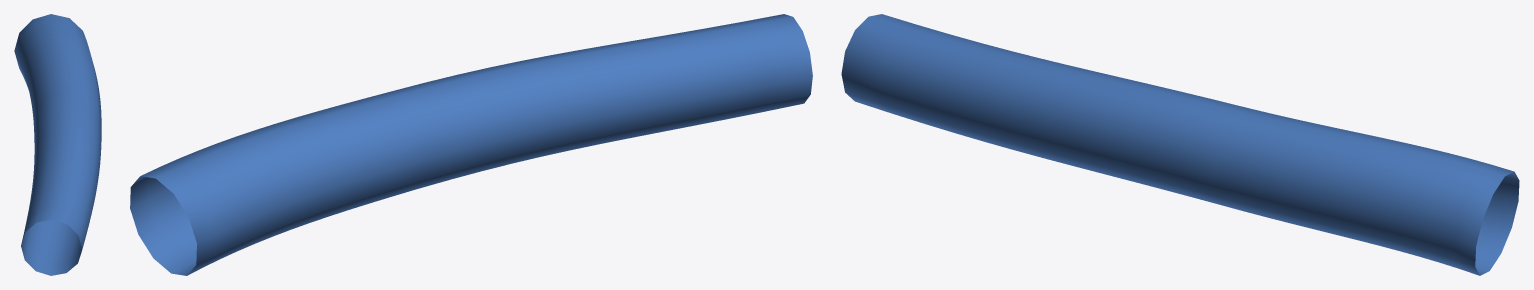
3 views of the same model, side by side, from view 1: azimuth 30°, elevation 25°; view 2: azimuth 150°, elevation 25°; view 3: azimuth 270°, elevation 25° (orthographic). The views are drawn at different scales.
Parts seen in each view (by area): view 1: 右侧下颌后静脉; view 2: 右侧下颌后静脉; view 3: 右侧下颌后静脉.
Part boxes in pixels (left/top/right/bottom): 右侧下颌后静脉: left=14, top=14, right=101, bottom=275; 右侧下颌后静脉: left=130, top=14, right=812, bottom=275; 右侧下颌后静脉: left=841, top=14, right=1519, bottom=275.
Size of the model in its own units: 0.0145 by 0.00391 by 0.0218.
